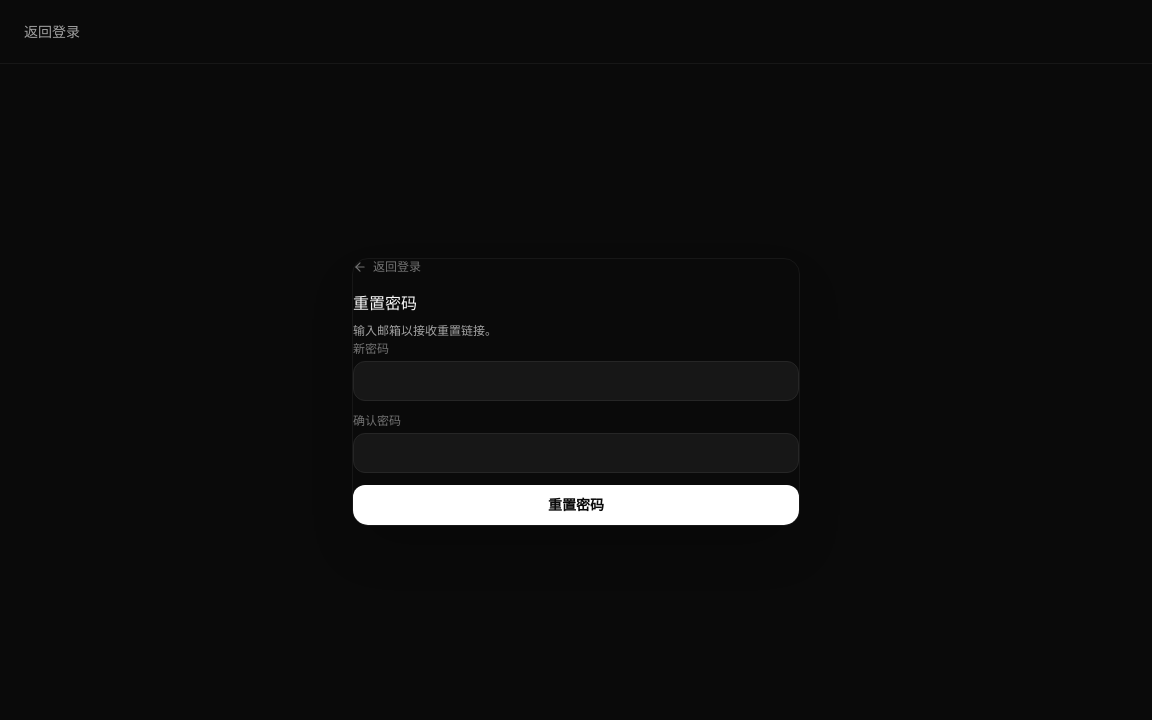
ResetPasswordPage › resets the password with a token from the reset link
Type "new-password-123" into the password field labelled "新密码" at [576, 381], box left=353, top=361, right=799, bottom=401
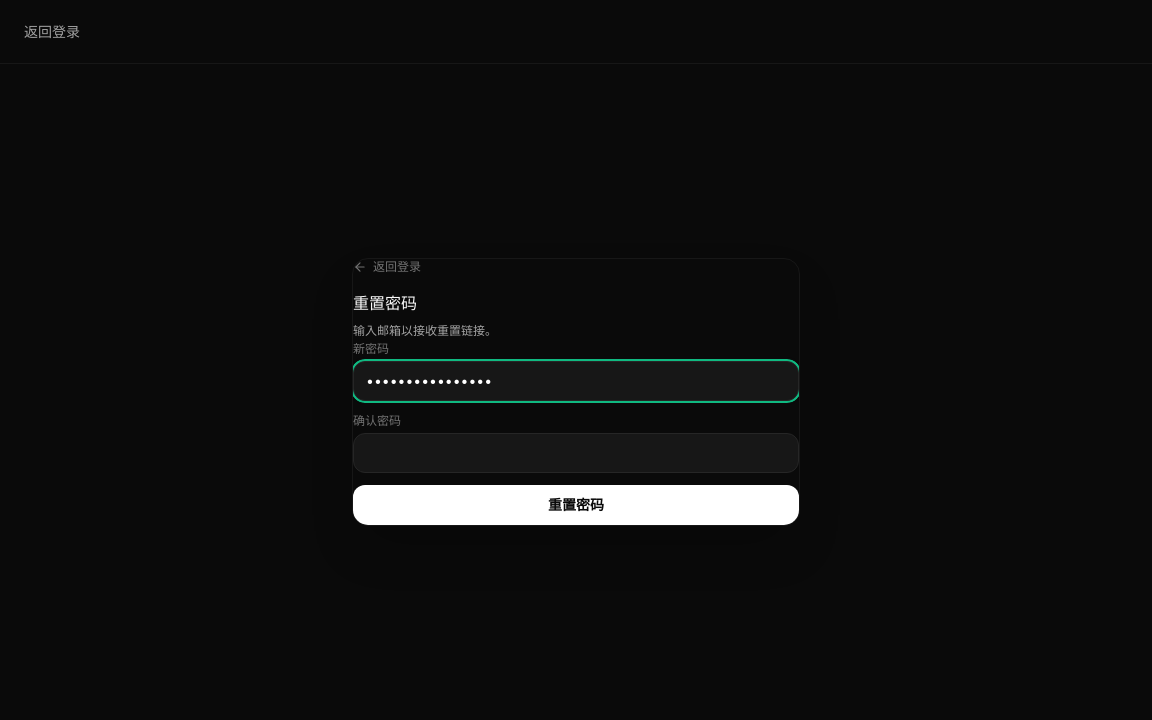
Type "new-password-123" into the password field labelled "确认密码" at [576, 453], box left=353, top=433, right=799, bottom=473
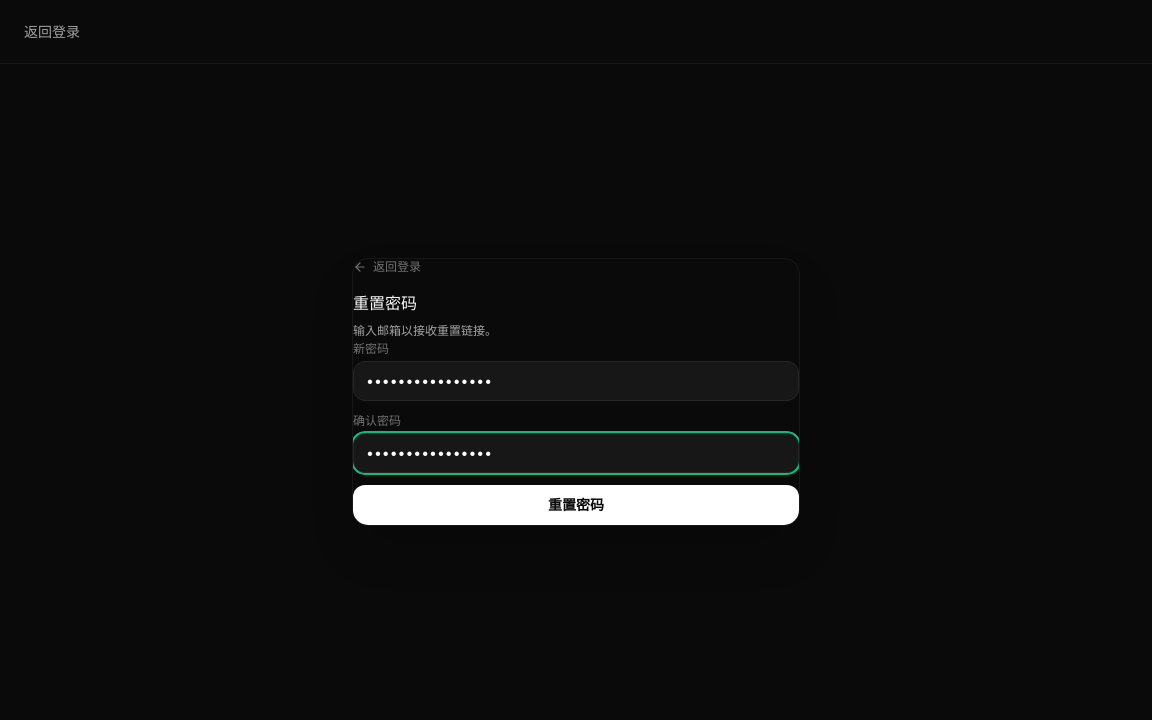
Click the button "重置密码" at [576, 505], box left=353, top=485, right=799, bottom=525
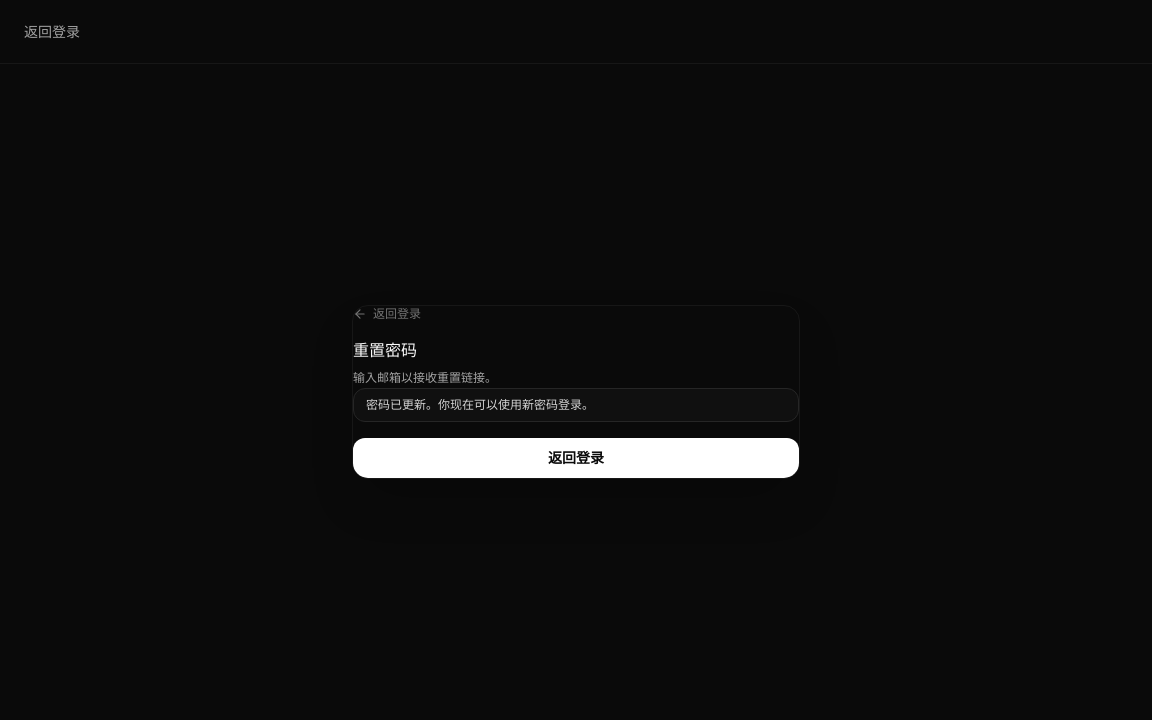
expect the text "密码已更新。你现在可以使用新密码登录。" is shown: met, box left=353, top=388, right=799, bottom=422
